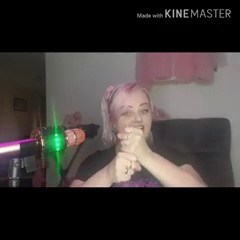G: (107, 124, 149, 186)
